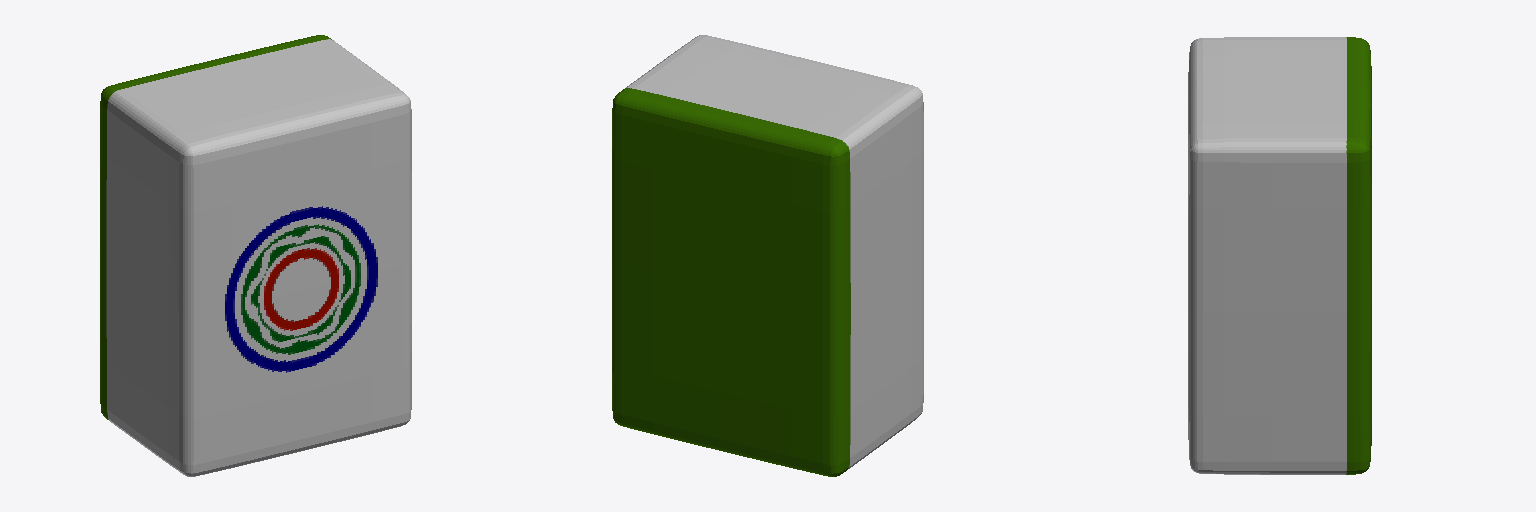
3 renders of one model, left to right at view 1: azimuth 30°, elevation 25°; view 2: azimuth 150°, elevation 25°; view 3: azimuth 270°, elevation 25°, orthographic.
Visible parts, largest first — view 1: Mahjong_word_T1; view 2: Mahjong_word_T1; view 3: Mahjong_word_T1.
Boxes of the visible parts, x1,y1,x2,y2 form: Mahjong_word_T1: [100, 35, 411, 476]; Mahjong_word_T1: [612, 35, 923, 476]; Mahjong_word_T1: [1188, 37, 1371, 474].
Size of the model in its own units: 0.029 by 0.04 by 0.02.
2 materials, 2 textured.